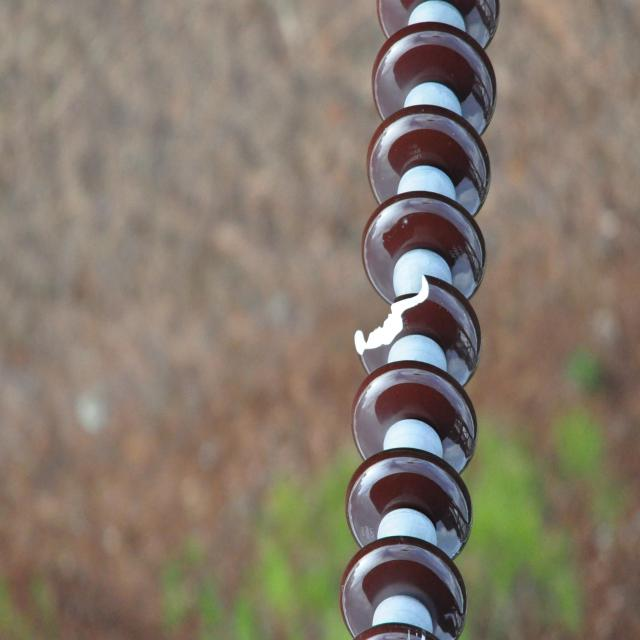broken: (352, 272, 430, 354)
insulator: (340, 0, 501, 631)
